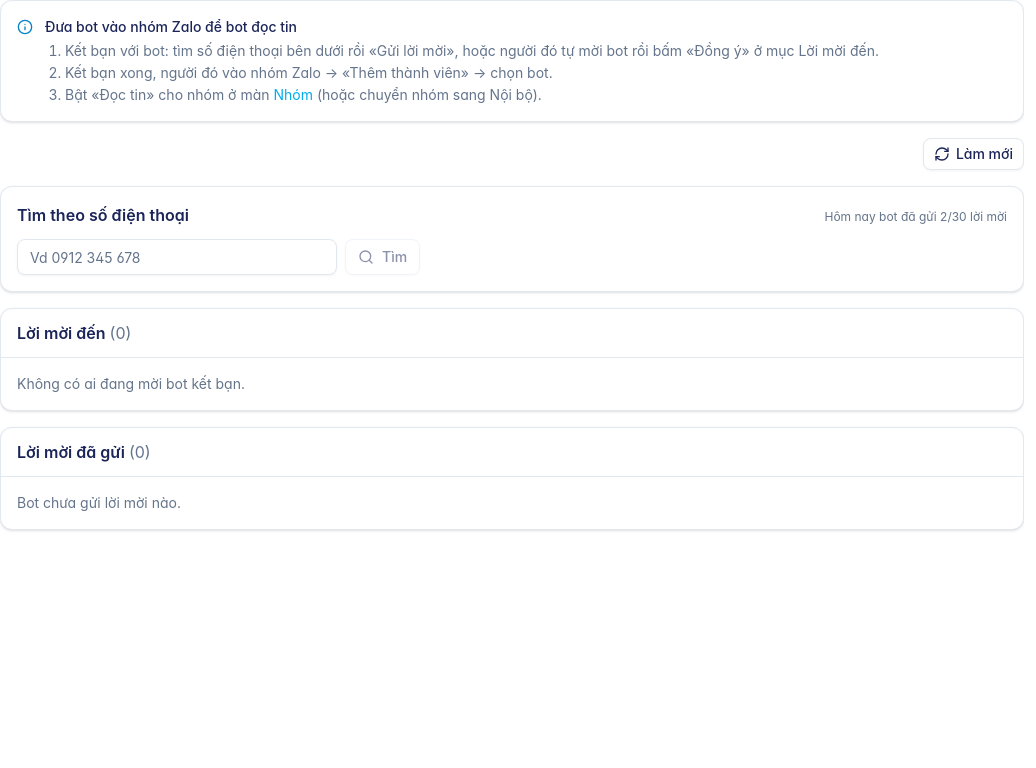
Scenario: AccountFriendsTab › searches a phone number and sends a friend request with the default message
Step 1. Type "0912 345 678" into the field named "Số điện thoại" → (177, 257), box [17, 239, 337, 275]
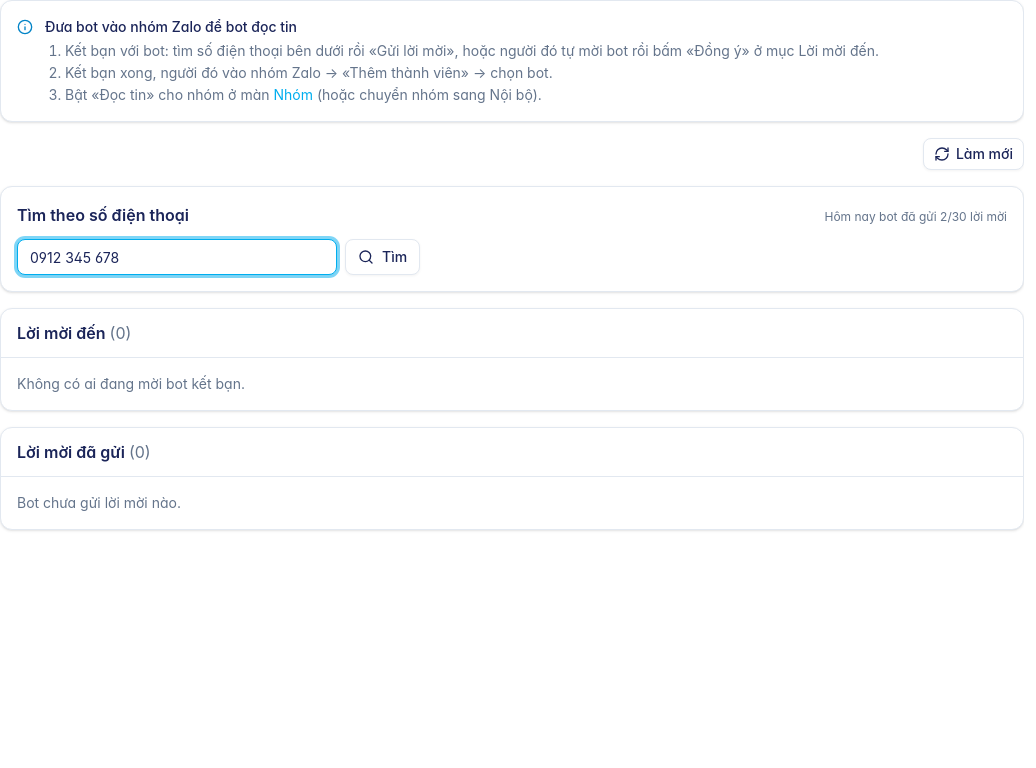
Step 2. Click the button "Tìm" → (383, 257), box [345, 239, 420, 275]
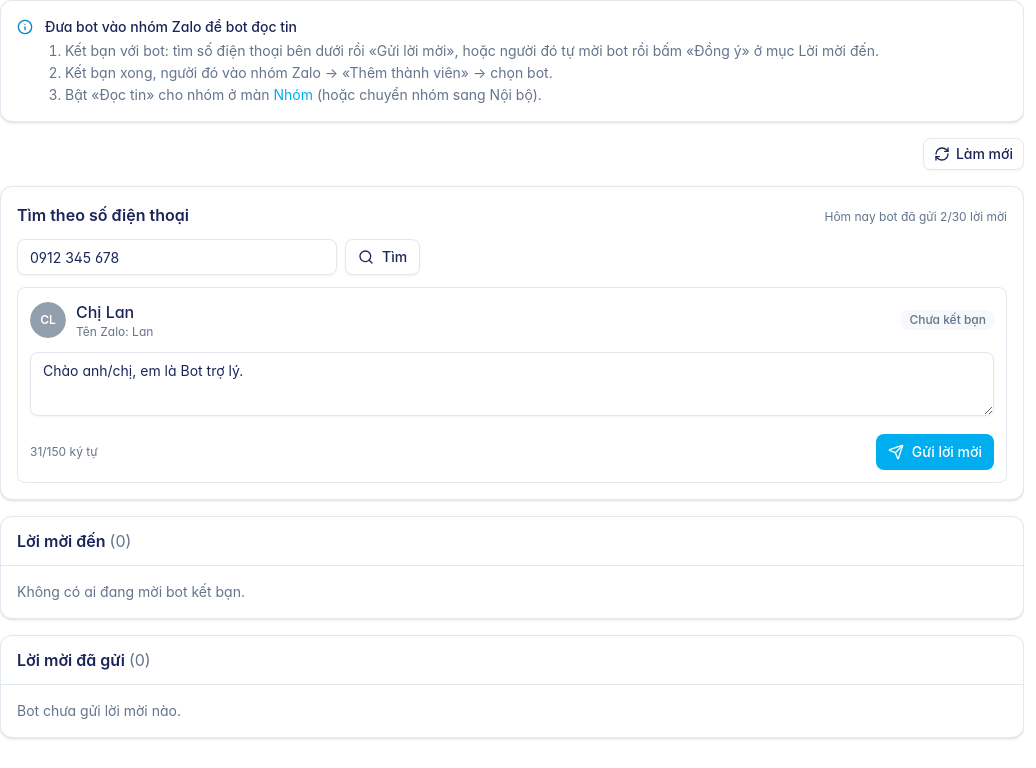
Check: the text "Chị Lan" is shown, box [76, 302, 134, 322]
Check: the text box named "Lời nhắn kèm lời mời" holds "Chào anh/chị, em là Bot trợ lý.", box [30, 352, 994, 416]
Step 3. Click the button "Gửi lời mời" → (935, 452), box [876, 434, 994, 470]
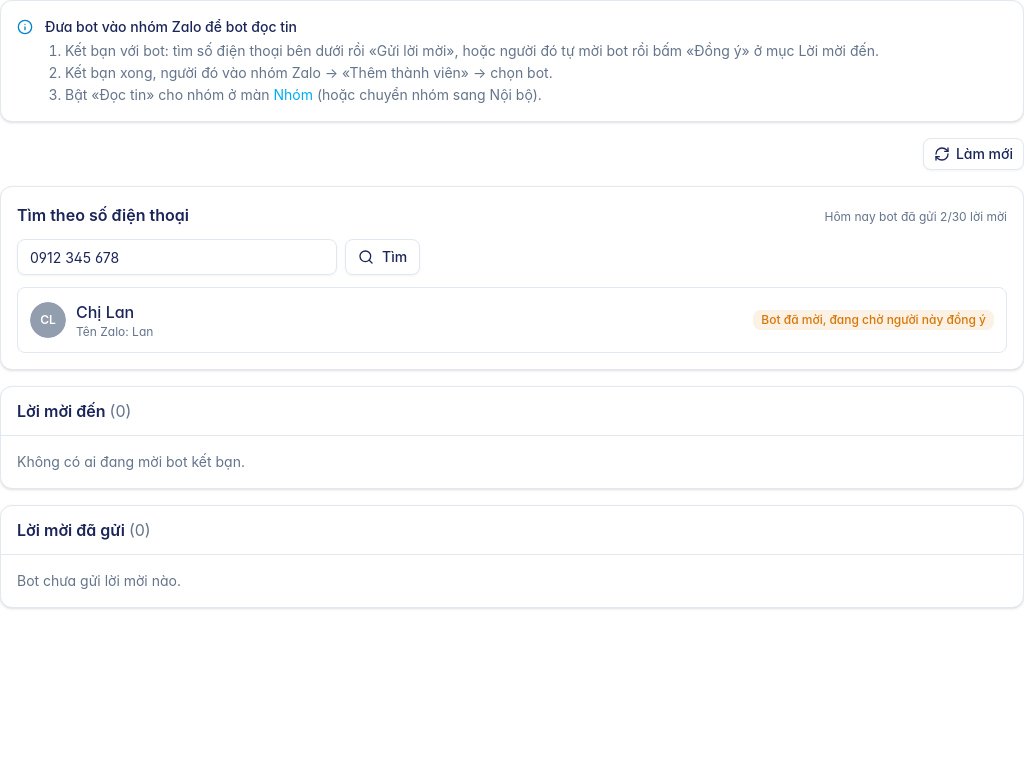
Check: the text "Bot đã mời, đang chờ người này đồng ý" is shown, box [753, 310, 994, 330]
